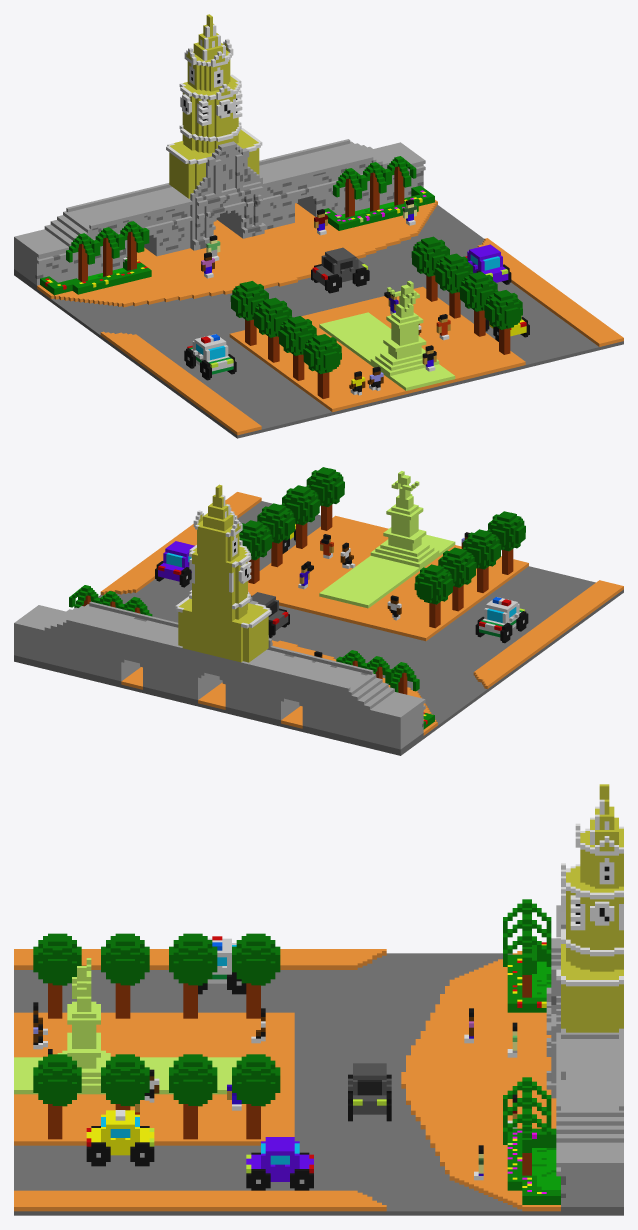
Rendered from torre.glb.
3 renders of one model, top to bottom at view 1: azimuth 30°, elevation 25°; view 2: azimuth 150°, elevation 25°; view 3: azimuth 270°, elevation 25°, orthographic. The views are drawn at different scales.
Visible parts, largest first — view 1: Object_2; view 2: Object_2; view 3: Object_2.
Boxes of the visible parts, x1,y1,x2,y2 form: Object_2: (14,14,623,438); Object_2: (14,467,623,755); Object_2: (14,784,623,1215).
Size of the model in its own units: 126 by 68 by 126.
1 material, 1 textured.
